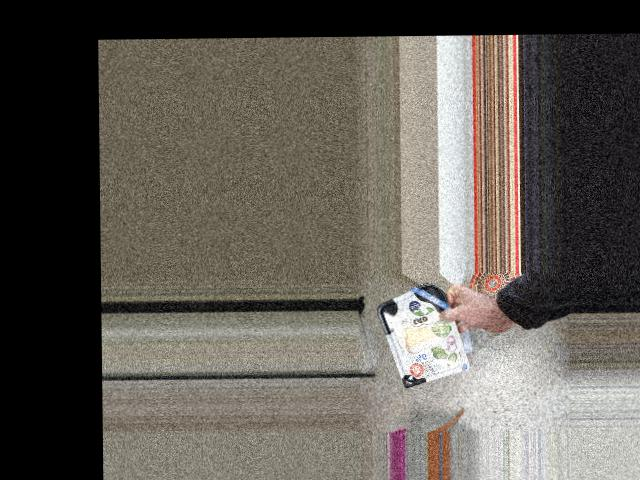cheese: (385, 290, 454, 381)
